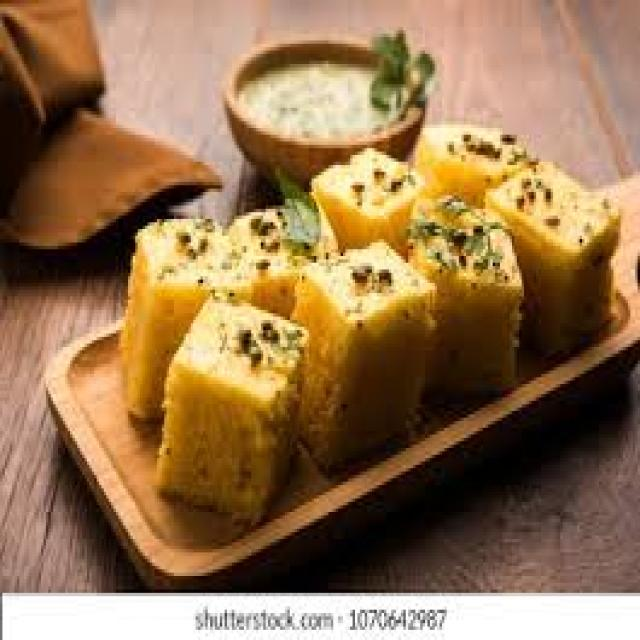DHOKLA: (292, 243, 437, 465), (162, 293, 307, 515), (379, 172, 519, 387), (485, 162, 616, 350), (121, 243, 171, 414), (130, 212, 167, 236)
